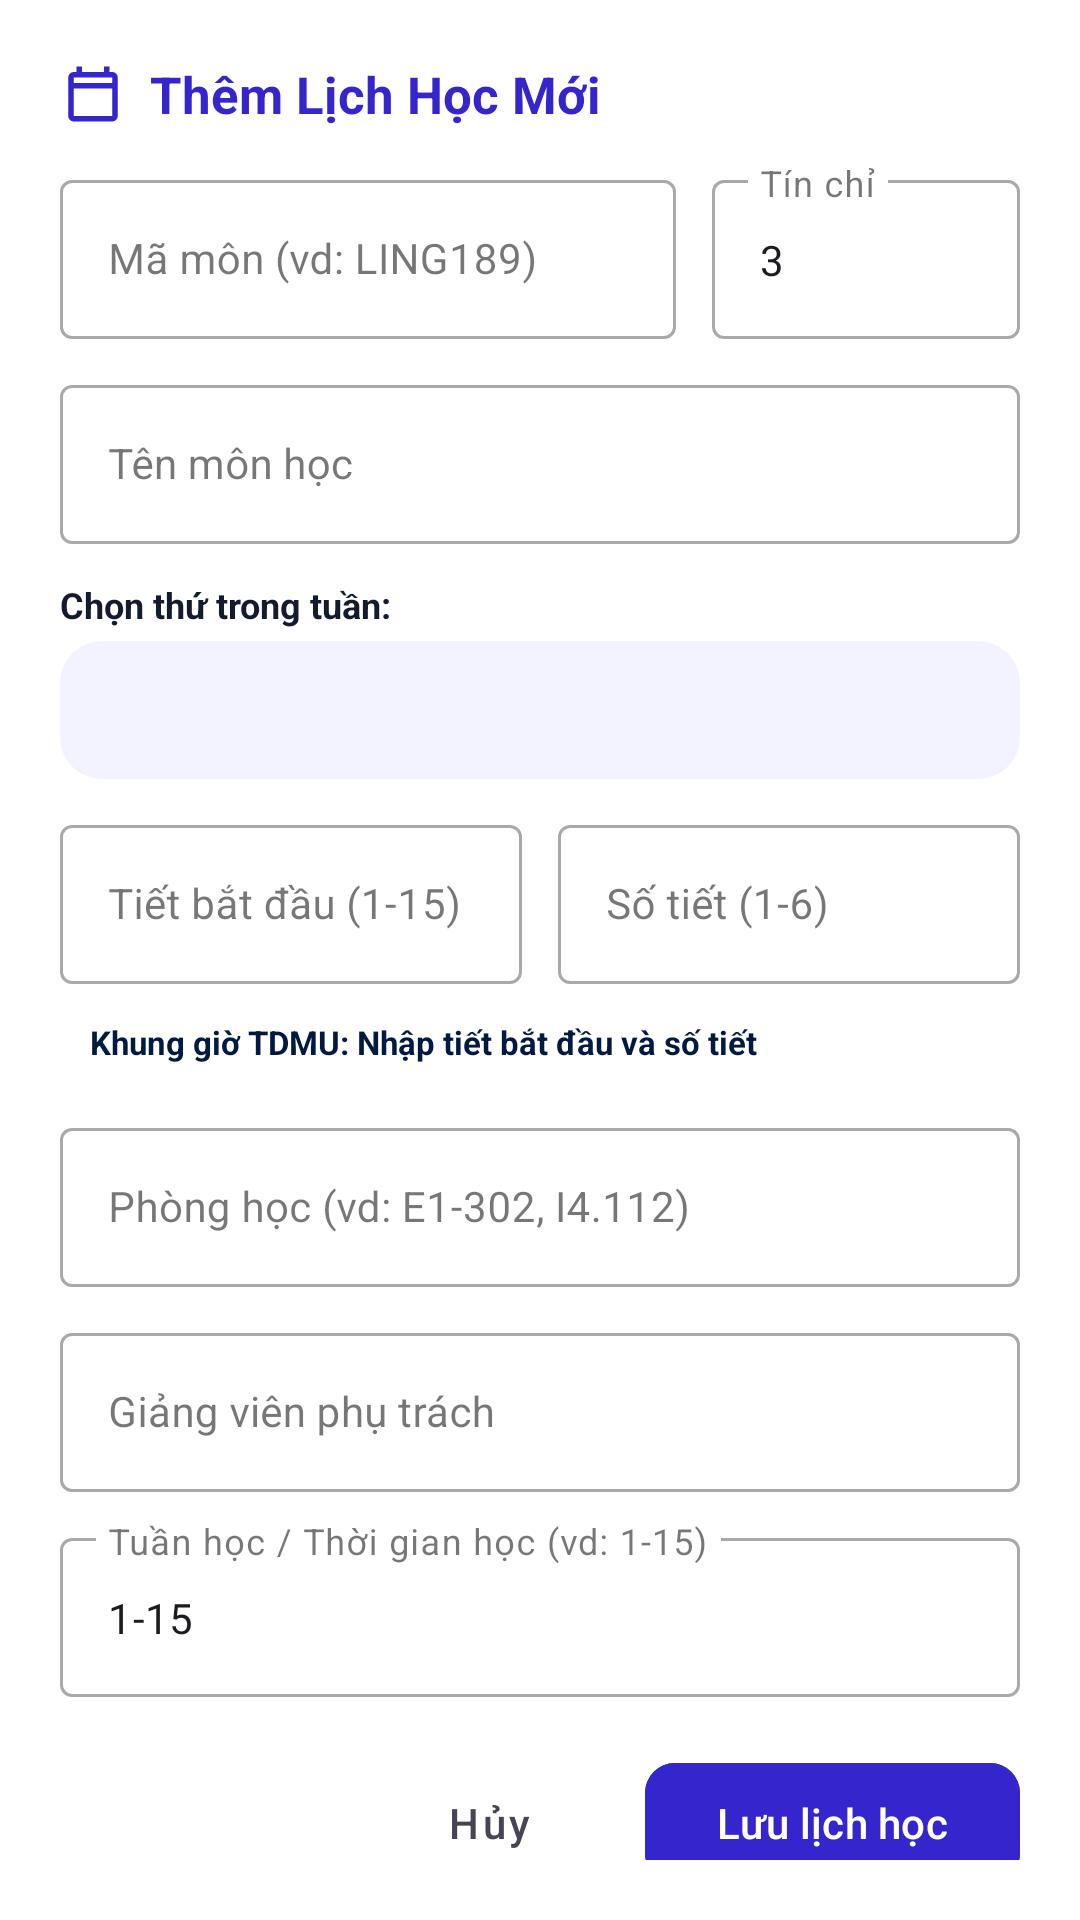

Icons on this 1080 x 1920 Android screen, each with its box as (left=x1, top=y1, right=x2, bottom=y2):
calendar today: (left=68, top=66, right=118, bottom=122)
